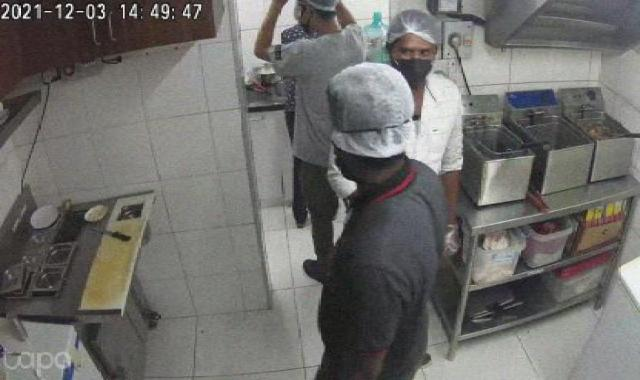hairnet: (316, 61, 428, 157), (382, 7, 462, 52)
